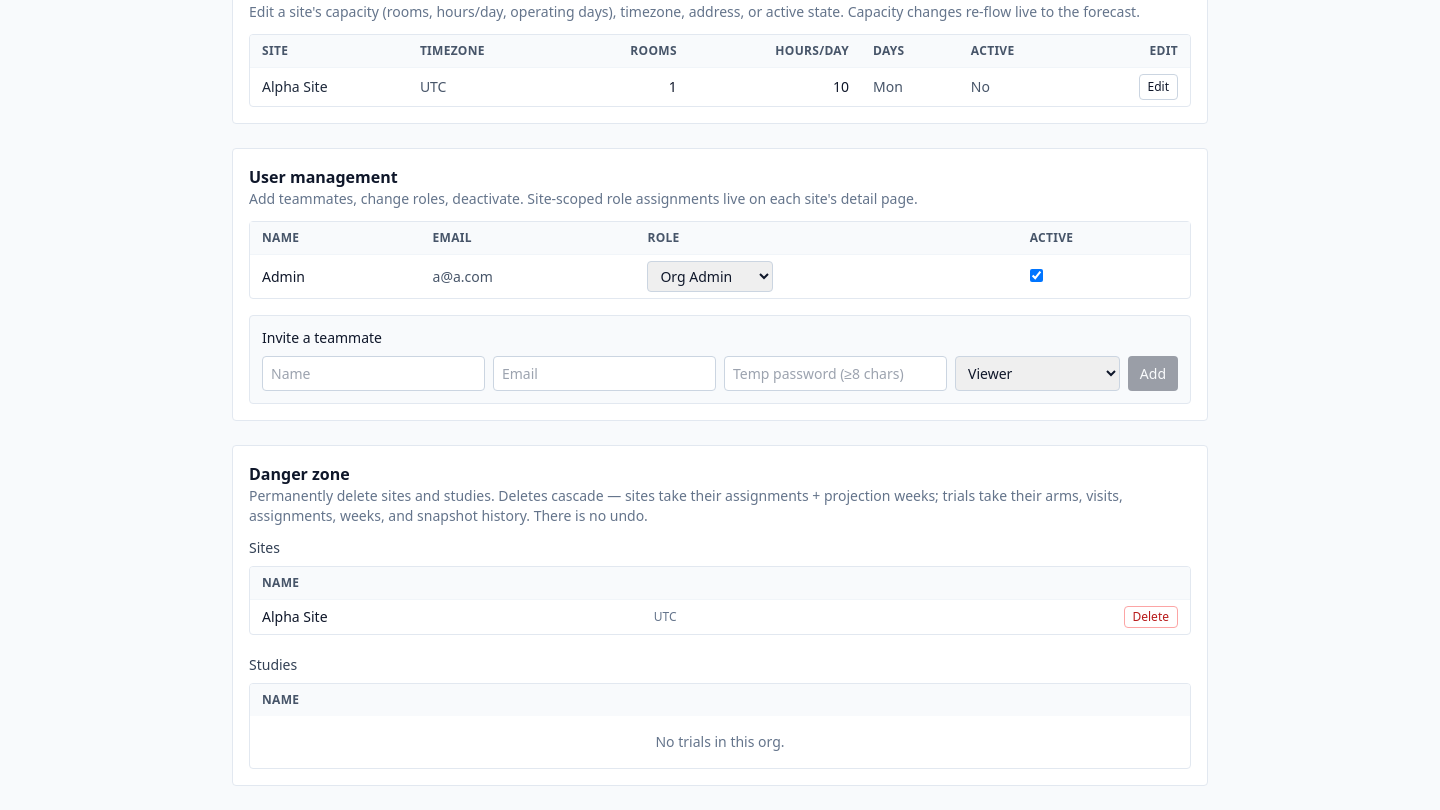
Test: AdminSettings › danger zone: deleting a site requires typing the site name
(page scrolled)
Click the button with test id "danger-site-delete-s1" at (1151, 617), box [1124, 606, 1178, 628]
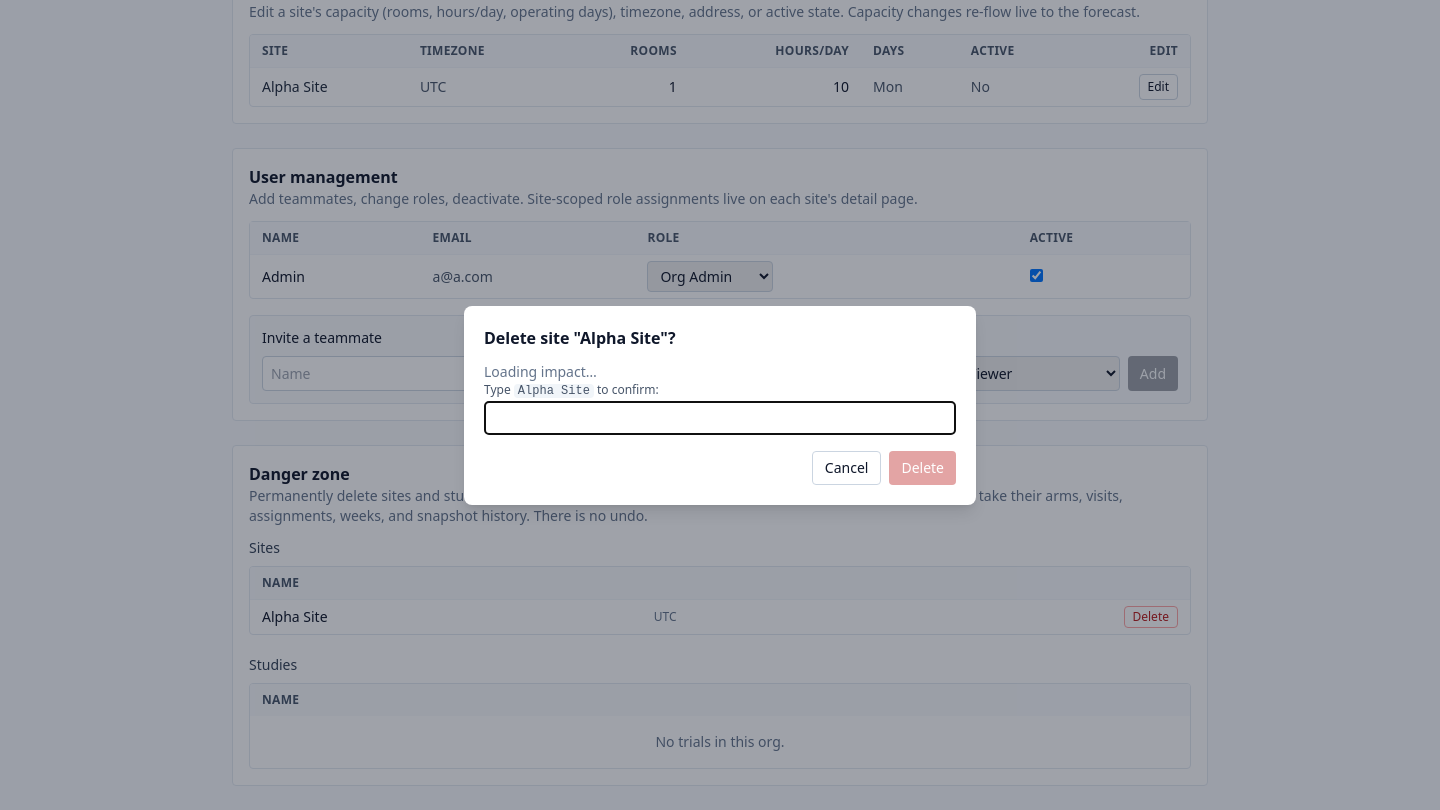
Expected: the button with test id "confirm-delete-button" is disabled, [889, 450, 956, 484]
Type "Alpha Site" into the field with test id "danger-site-type-confirm" at (720, 418), box [484, 400, 956, 434]
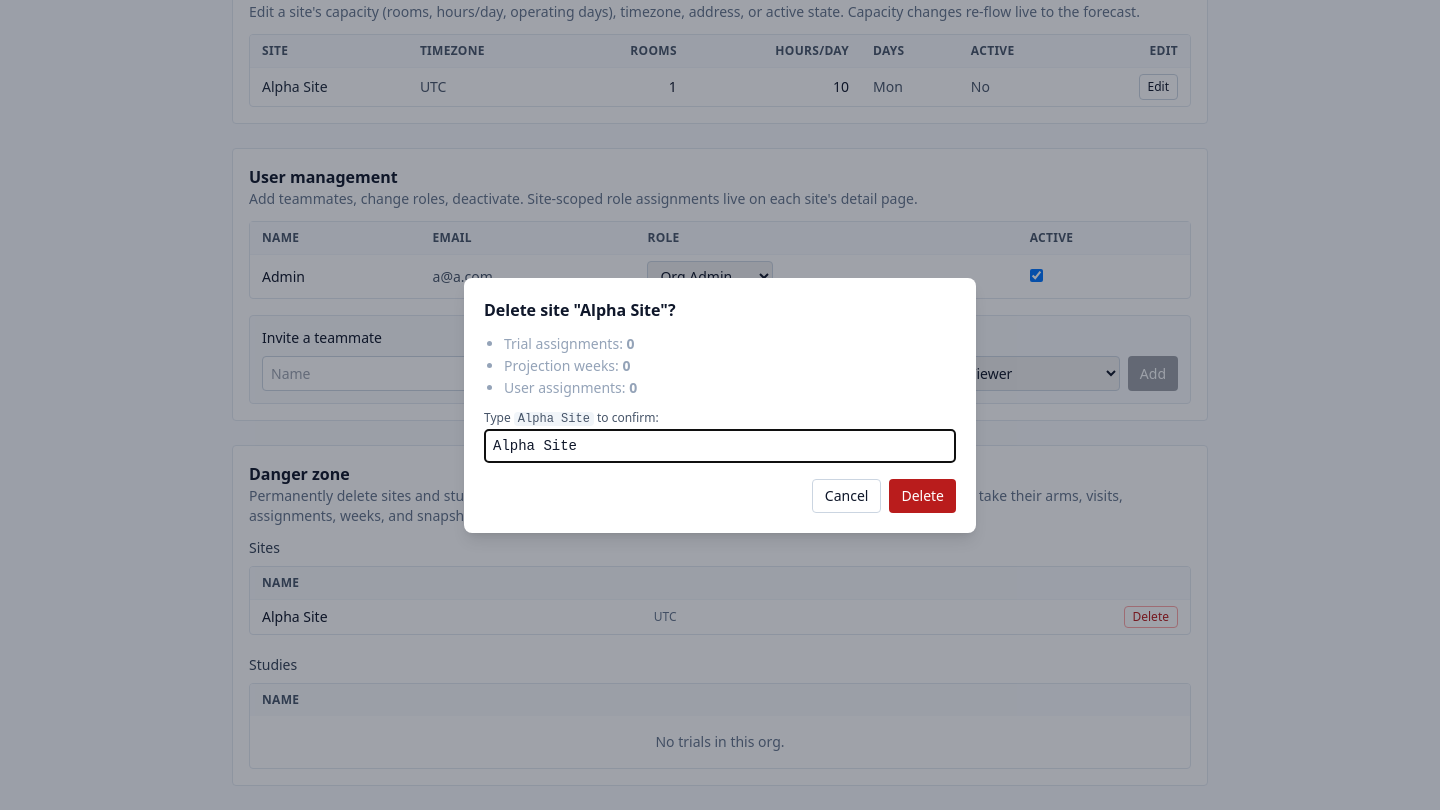
Expected: the button with test id "confirm-delete-button" is enabled, [889, 478, 956, 512]
